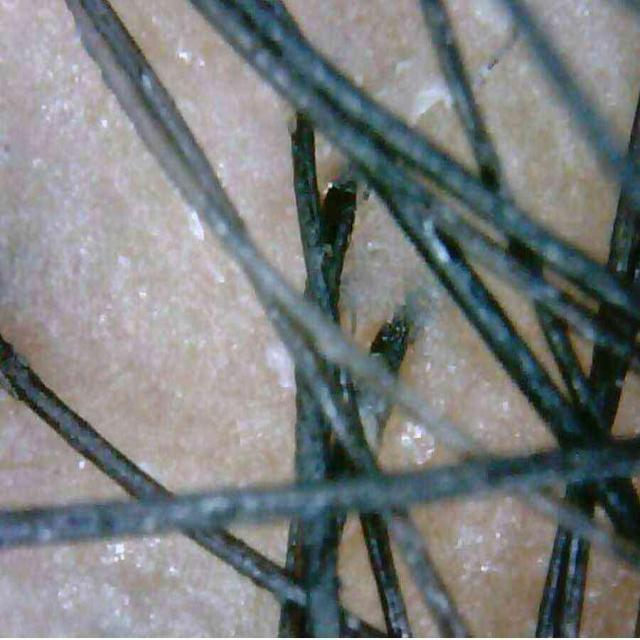d: (265, 341, 294, 390), (422, 222, 450, 263)
ds: (375, 44, 459, 136)
o: (137, 15, 214, 92), (380, 408, 436, 471)
